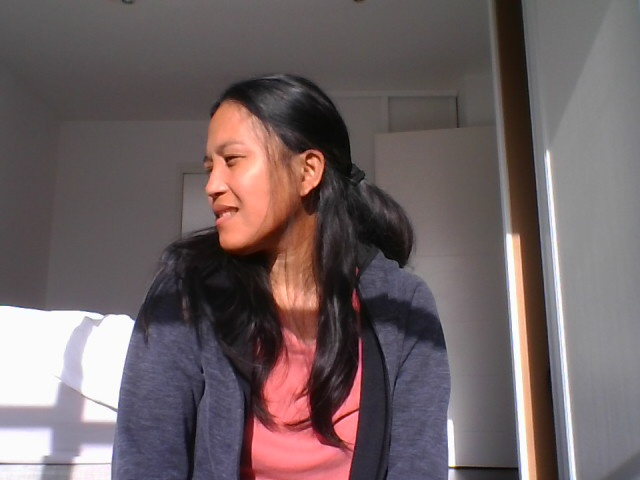face: (204, 71, 326, 252)
